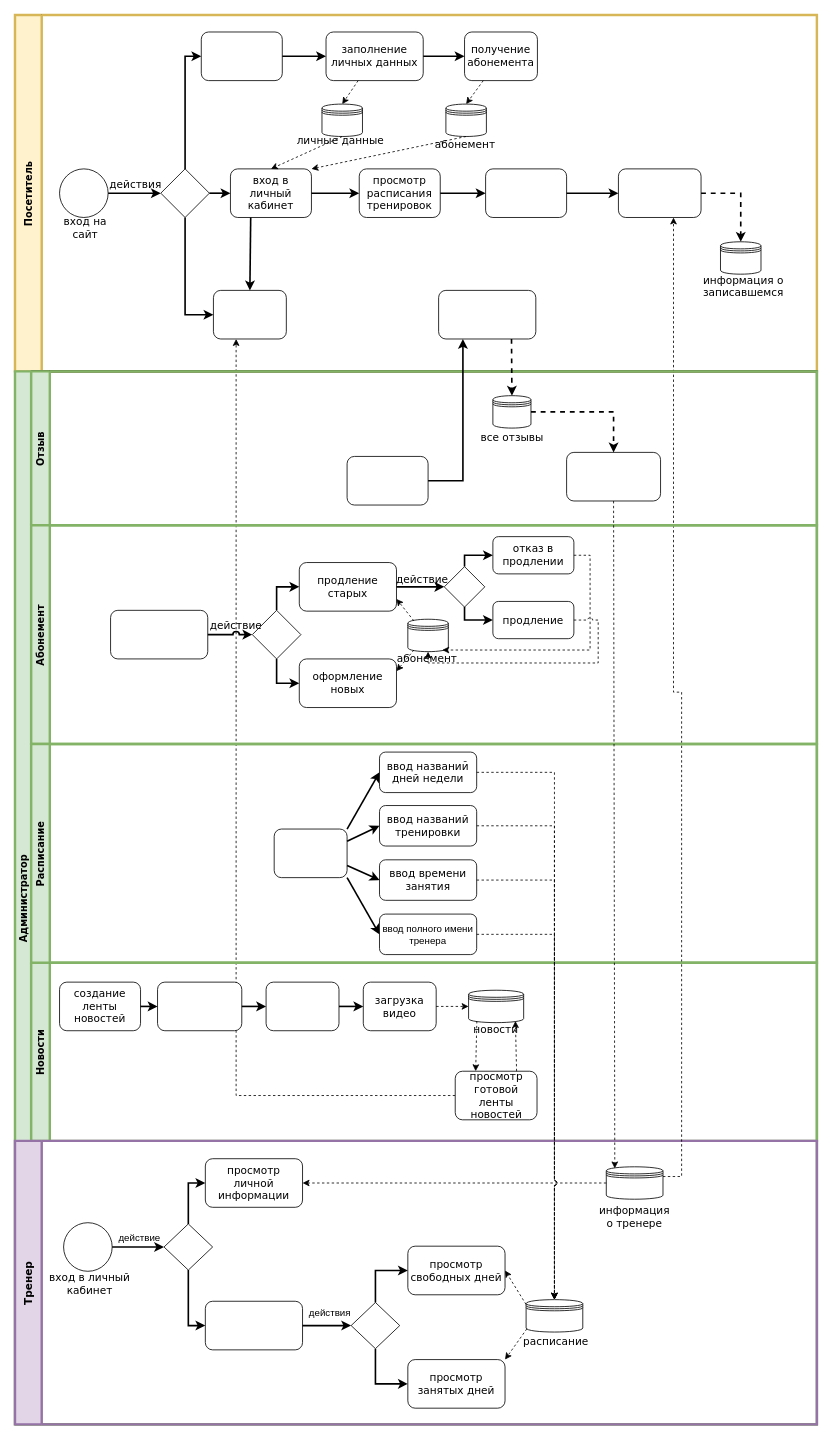
Image size: 832x1439. Some labels were removed from this diagram. Each missing label, with the centre of its shape:
загрузка фото: point (302, 1006)
запись на тренировку: point (659, 192)
запрос отзыва: point (387, 480)
написание отзыва: point (487, 314)
просмотр индивидуального расписания: point (254, 1325)
просмотр новостей: point (249, 314)
просмотр свободных дат: point (526, 192)
прохождение регистрации: point (241, 56)
создание спец. предложений: point (199, 1006)
составление расписания: point (310, 853)
составление рейтинга тренера на основе отзывов: point (613, 476)
управление абонементами: point (159, 634)
